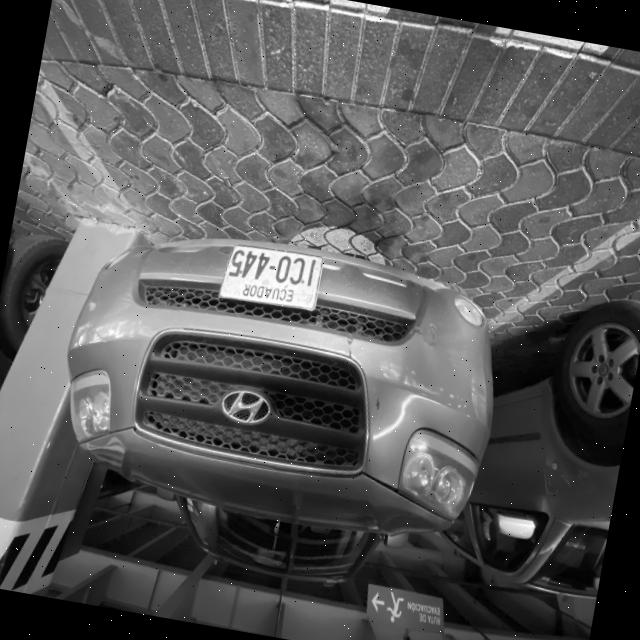Placa: (219, 245, 321, 309)
